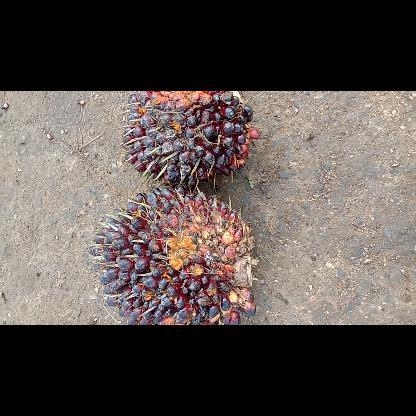Kurang masak: (85, 186, 261, 324), (119, 90, 262, 192)
